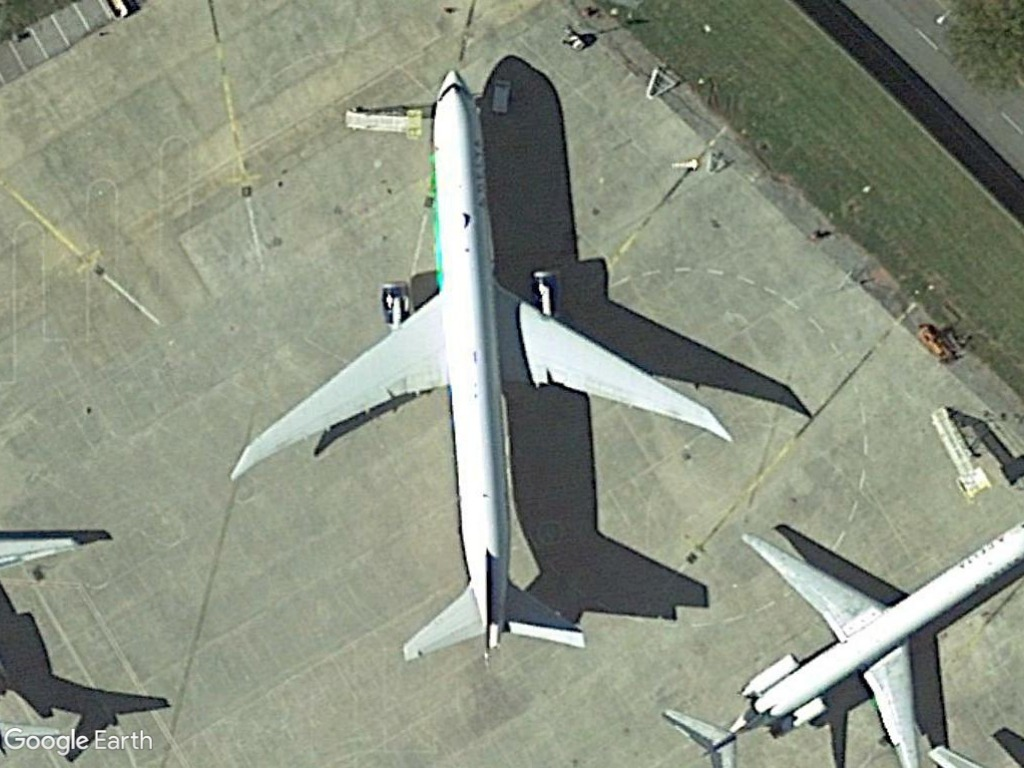airliner: (219, 64, 734, 670)
stairtruck: (340, 98, 430, 146)
